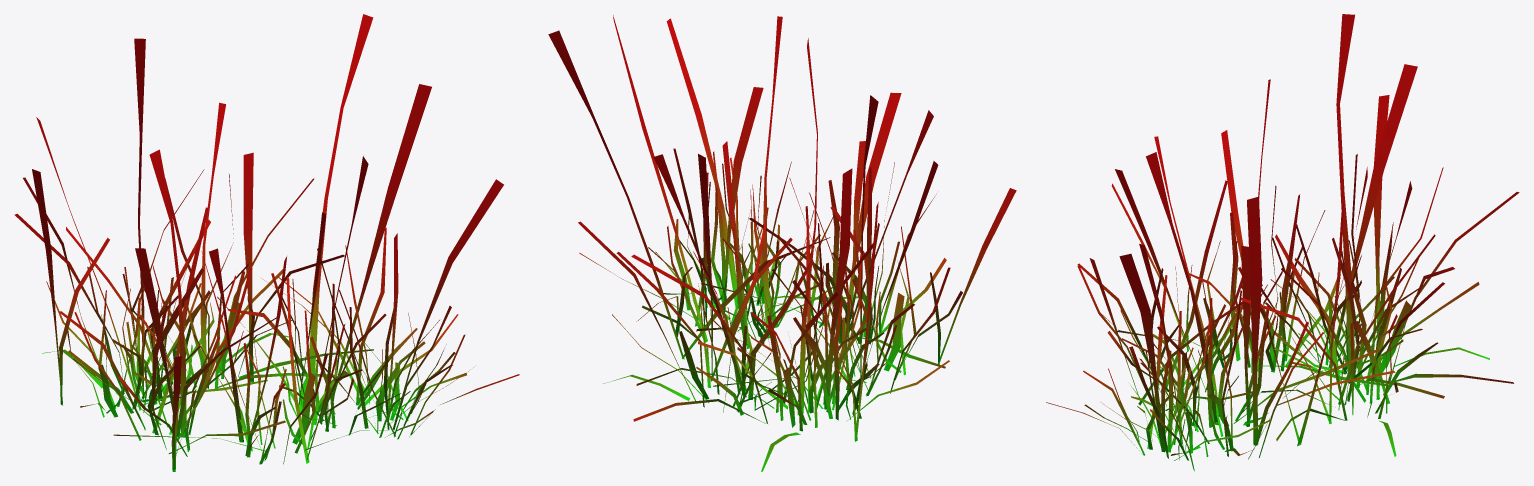
The model's file is Tundra Grass_LOD3_Var12_wk2oaeyqx.fbx.
3 renders of one model, left to right at view 1: azimuth 30°, elevation 25°; view 2: azimuth 150°, elevation 25°; view 3: azimuth 270°, elevation 25°, orthographic. The views are drawn at different scales.
Parts seen in each view (by area): view 1: _8cpj_Var12_LOD3; view 2: _8cpj_Var12_LOD3; view 3: _8cpj_Var12_LOD3.
Part boxes in pixels (left/top/right/bottom): _8cpj_Var12_LOD3: left=14, top=14, right=519, bottom=471; _8cpj_Var12_LOD3: left=548, top=15, right=1016, bottom=471; _8cpj_Var12_LOD3: left=1046, top=14, right=1519, bottom=471.
Bounding box in the file's own units: 33.76 × 31.77 × 37.45.
